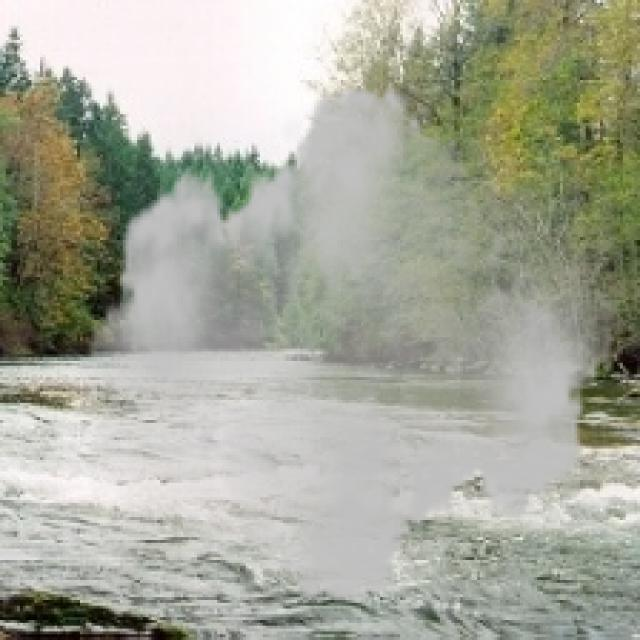smoke: (77, 63, 626, 626)
